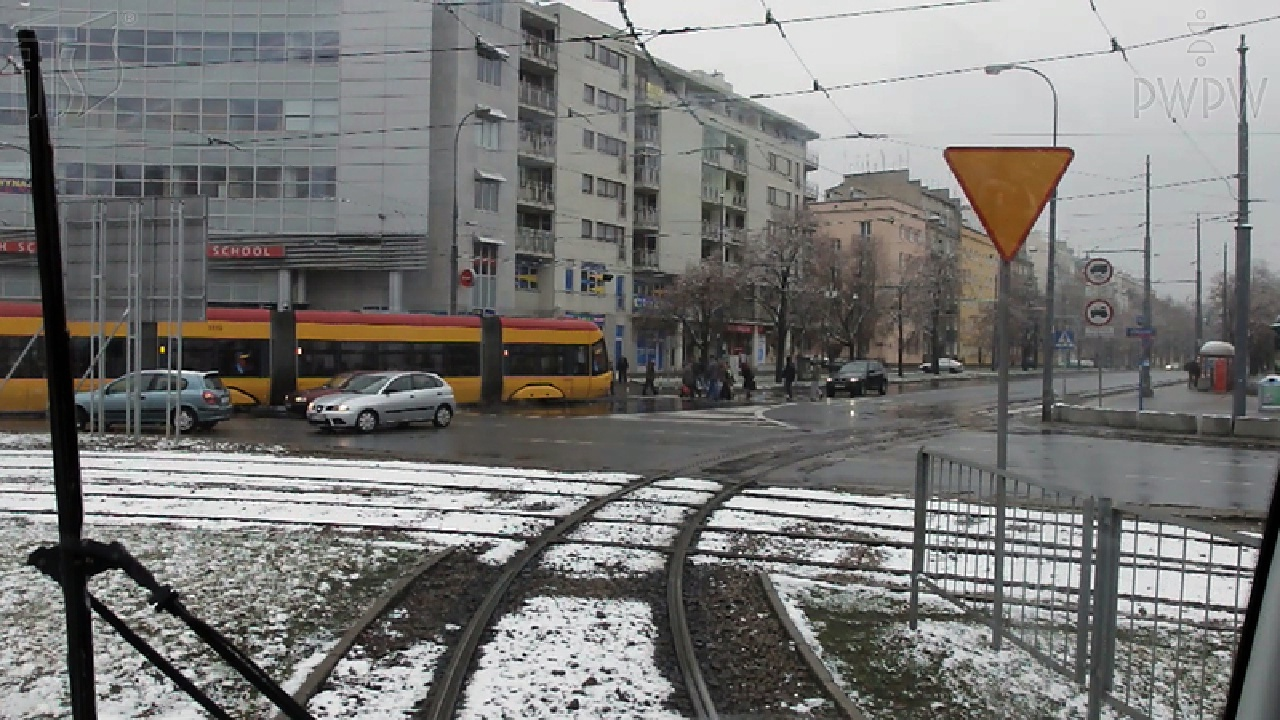A7: (942, 143, 1077, 262)
